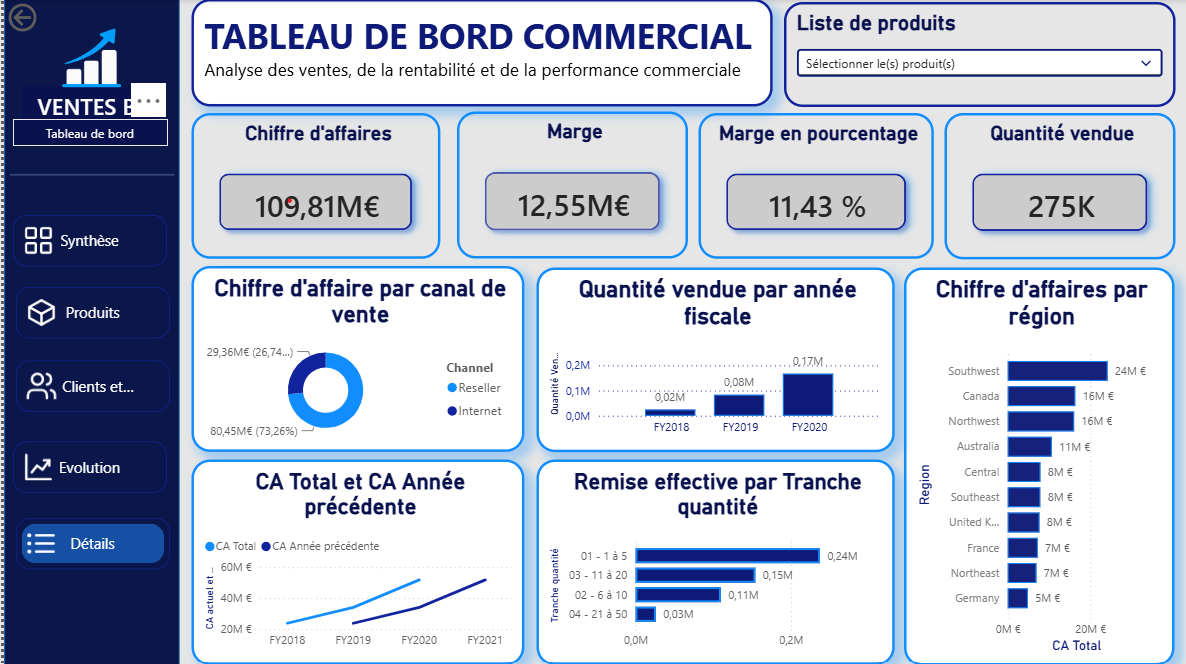

What the dashboard file says about the page in this screenshot:
{"tool":"powerbi","page":{"name":"05-Détails produits","canvas":[1280,720],"ordinal":4},"visuals":[{"type":"clusteredBarChart","title":"Chiffre  d''affaires par région","fields":{"Category":["Sales Territory_data.Region"],"Y":["Mesure.CA Total"]},"box":[972.2,289.8,292.3,430.4],"z":0},{"type":"cardVisual","title":"Chiffre d''affaires ","fields":{"Data":["Mesure.CA Total"]},"box":[202.4,123.1,268.8,157.1],"z":1000},{"type":"cardVisual","title":"Marge ","fields":{"Data":["Mesure.Marge"]},"box":[489,121.4,249.4,158.7],"z":2000},{"type":"cardVisual","title":"Marge en pourcentage","fields":{"Data":["Mesure.Marge %"]},"box":[749.7,123.1,254.2,157.1],"z":3000},{"type":"cardVisual","title":"Quantité vendue","fields":{"Data":["Mesure.Quantité vendue"]},"box":[1015,122.3,249.5,157.7],"z":4000},{"type":"donutChart","title":"Chiffre d''affaire par canal de vente","fields":{"Category":["sales_data_modif.Channel"],"Y":["Mesure.CA Total"]},"box":[201.8,288.6,359.5,200.5],"z":5000},{"type":"clusteredColumnChart","title":"Quantité vendue par année fiscale","fields":{"Category":["Date_data.Fiscal Year"],"Y":["Mesure.Quantité vendue"]},"box":[574.7,289.8,386.4,199.3],"z":6000},{"type":"lineChart","title":"CA Total et CA Année précédente ","fields":{"Category":["Date_data.Fiscal Year"],"Y":["Mesure.CA Total","Mesure.CA Année précédente"]},"box":[201.8,497.7,359.5,222.6],"z":7000},{"type":"clusteredBarChart","fields":{"Category":["sales_data_modif.Tranche quantité"],"Y":["Mesure.Remise effective"]},"box":[574.7,497.7,386.4,222.6],"z":8000},{"type":"textbox","box":[201.8,0,627.3,116.2],"z":9000},{"type":"listSlicer","title":"Liste de produits","fields":{"Values":["Product_data.Product"]},"box":[842,3.2,422.6,113.3],"z":10000},{"type":"shape","box":[0,0,189.5,720.2],"z":11000},{"type":"actionButton","box":[9.8,233.6,166.3,55],"z":12000},{"type":"actionButton","box":[12.2,310.6,166.3,55],"z":13000},{"type":"actionButton","box":[12.2,390.1,166,55],"z":14000},{"type":"actionButton","box":[9.8,478.1,166,55],"z":15000},{"type":"actionButton","box":[12.2,560.1,166,55],"z":16000},{"type":"textbox","box":[19.6,94.2,146.7,44],"z":17000},{"type":"textbox","box":[9.8,129.6,166.3,29.3],"z":18000},{"type":"shape","box":[6.1,183.4,177.3,13.5],"z":19000},{"type":"image","box":[0,2.4,189.5,119.8],"z":20000},{"type":"actionButton","box":[0,0,100,40],"z":21000}]}

Visuals, with their boxes on the page's 1280x720 design canvas (x1, y1, x2, y2). These are canvas units, not pixel positions in the 1186x664 screenshot, which may show the page scaled, cropped or inside an application window:
"Chiffre  d''affaires par région" clusteredBarChart: (left=972, top=290, right=1264, bottom=720)
"Chiffre d''affaires " cardVisual: (left=202, top=123, right=471, bottom=280)
"Marge " cardVisual: (left=489, top=121, right=738, bottom=280)
"Marge en pourcentage" cardVisual: (left=750, top=123, right=1004, bottom=280)
"Quantité vendue" cardVisual: (left=1015, top=122, right=1264, bottom=280)
"Chiffre d''affaire par canal de vente" donutChart: (left=202, top=289, right=561, bottom=489)
"Quantité vendue par année fiscale" clusteredColumnChart: (left=575, top=290, right=961, bottom=489)
"CA Total et CA Année précédente " lineChart: (left=202, top=498, right=561, bottom=720)
clusteredBarChart - sales_data_modif.Tranche quantité x Mesure.Remise effective: (left=575, top=498, right=961, bottom=720)
textbox: (left=202, top=0, right=829, bottom=116)
"Liste de produits" listSlicer: (left=842, top=3, right=1265, bottom=116)
shape: (left=0, top=0, right=190, bottom=720)
actionButton: (left=10, top=234, right=176, bottom=289)
actionButton: (left=12, top=311, right=178, bottom=366)
actionButton: (left=12, top=390, right=178, bottom=445)
actionButton: (left=10, top=478, right=176, bottom=533)
actionButton: (left=12, top=560, right=178, bottom=615)
textbox: (left=20, top=94, right=166, bottom=138)
textbox: (left=10, top=130, right=176, bottom=159)
shape: (left=6, top=183, right=183, bottom=197)
image: (left=0, top=2, right=190, bottom=122)
actionButton: (left=0, top=0, right=100, bottom=40)
